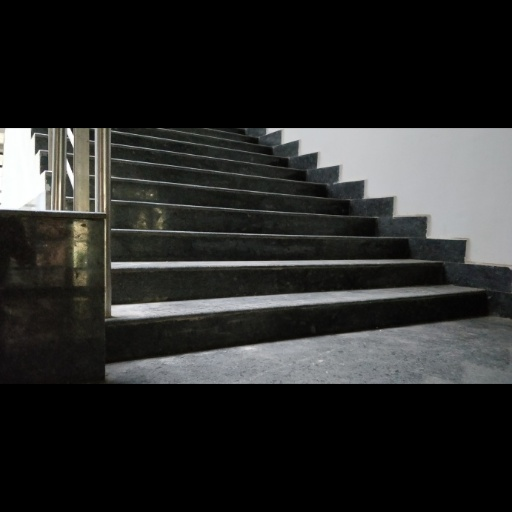Stairs: (106, 130, 487, 361)
